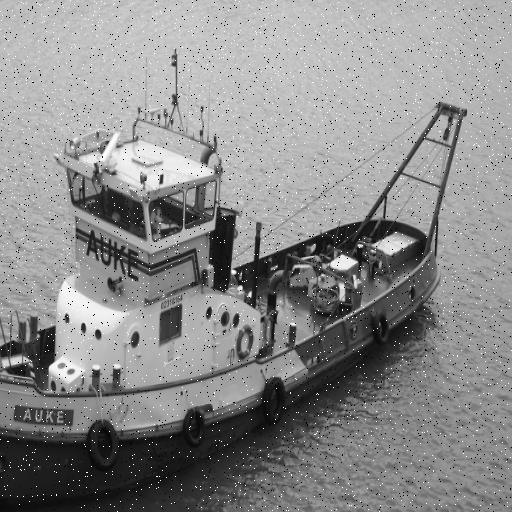tugboat: (1, 97, 471, 512)
